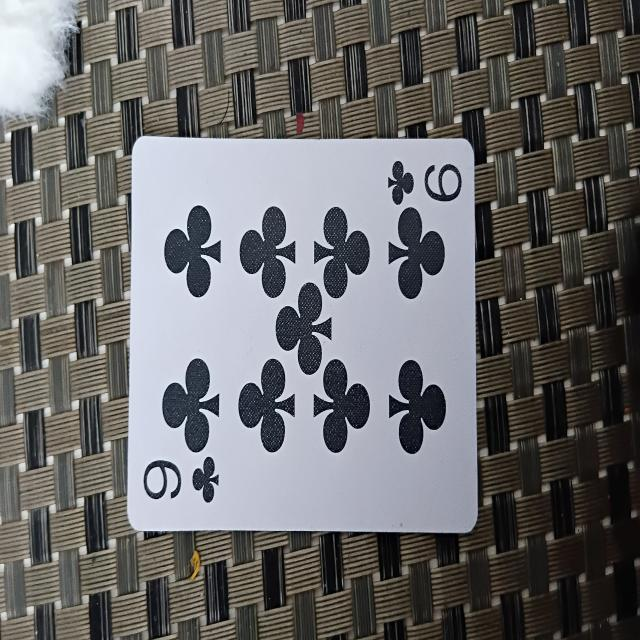9C: (127, 136, 475, 534)
